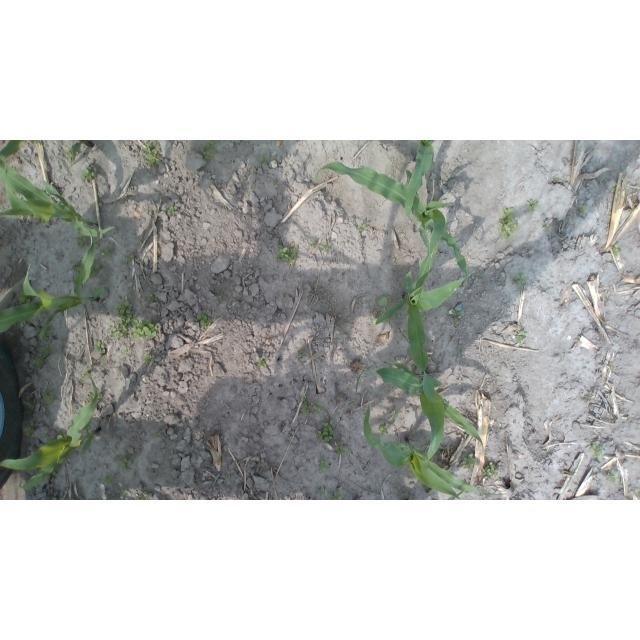Maize: (313, 161, 469, 290), (374, 230, 476, 407), (364, 404, 509, 500), (354, 362, 485, 467), (0, 225, 104, 343), (0, 376, 100, 489), (0, 155, 116, 237), (404, 141, 436, 222), (0, 140, 94, 161)
Weeds: (498, 207, 519, 241), (130, 318, 158, 340), (116, 301, 137, 326), (144, 141, 163, 165), (317, 420, 336, 443), (108, 320, 129, 340), (200, 141, 219, 162), (277, 246, 298, 265), (196, 310, 213, 328), (18, 288, 34, 305), (81, 165, 96, 183), (460, 452, 476, 468), (43, 321, 55, 342), (484, 462, 498, 478), (452, 308, 465, 325), (592, 440, 603, 460), (88, 261, 100, 279), (119, 454, 133, 469), (41, 391, 57, 404), (511, 331, 527, 344), (40, 344, 57, 356), (76, 234, 90, 248), (47, 433, 70, 441), (32, 356, 46, 369), (607, 471, 620, 485), (94, 341, 106, 356), (100, 246, 113, 259), (377, 296, 390, 309), (528, 200, 541, 213), (23, 422, 35, 436), (88, 388, 100, 402), (302, 396, 310, 417), (310, 402, 324, 414), (512, 273, 526, 285), (379, 420, 389, 436), (336, 442, 348, 455), (611, 244, 621, 259), (116, 486, 128, 498), (65, 147, 73, 165), (320, 455, 329, 469), (577, 205, 587, 216), (72, 260, 81, 272), (320, 242, 332, 251), (387, 408, 395, 421), (167, 205, 177, 215), (257, 357, 267, 367), (136, 492, 148, 500), (331, 492, 343, 500), (104, 474, 113, 484), (125, 255, 133, 266), (147, 292, 158, 300), (357, 224, 366, 233), (260, 156, 269, 165), (298, 350, 307, 359), (81, 370, 89, 380), (544, 222, 552, 232), (143, 355, 151, 364), (152, 432, 161, 439), (121, 348, 129, 355), (28, 402, 35, 409), (52, 496, 64, 500), (216, 296, 225, 301), (318, 490, 325, 496), (608, 364, 614, 370), (553, 175, 559, 181), (612, 185, 617, 191), (310, 240, 316, 245), (378, 312, 384, 316)
